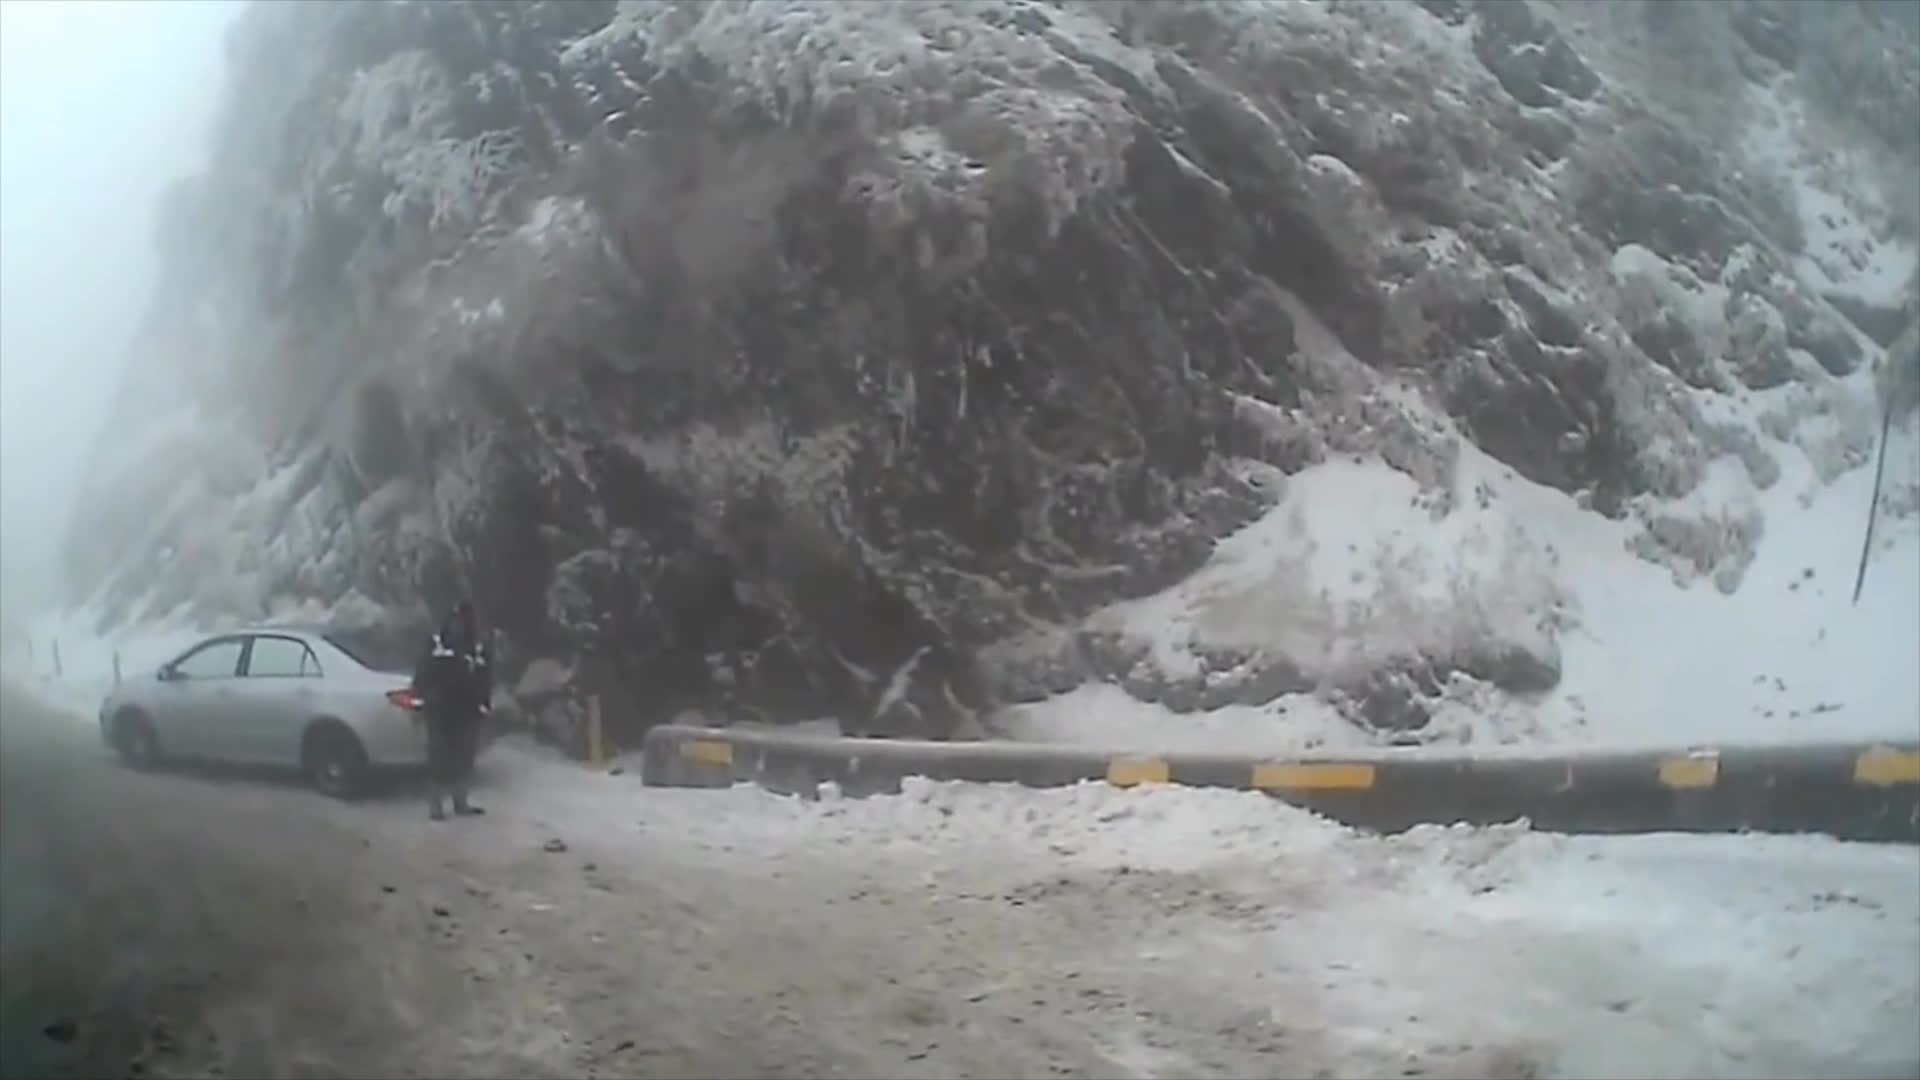pedestrian: (415, 597, 499, 821)
vehicle: (101, 621, 497, 803)
